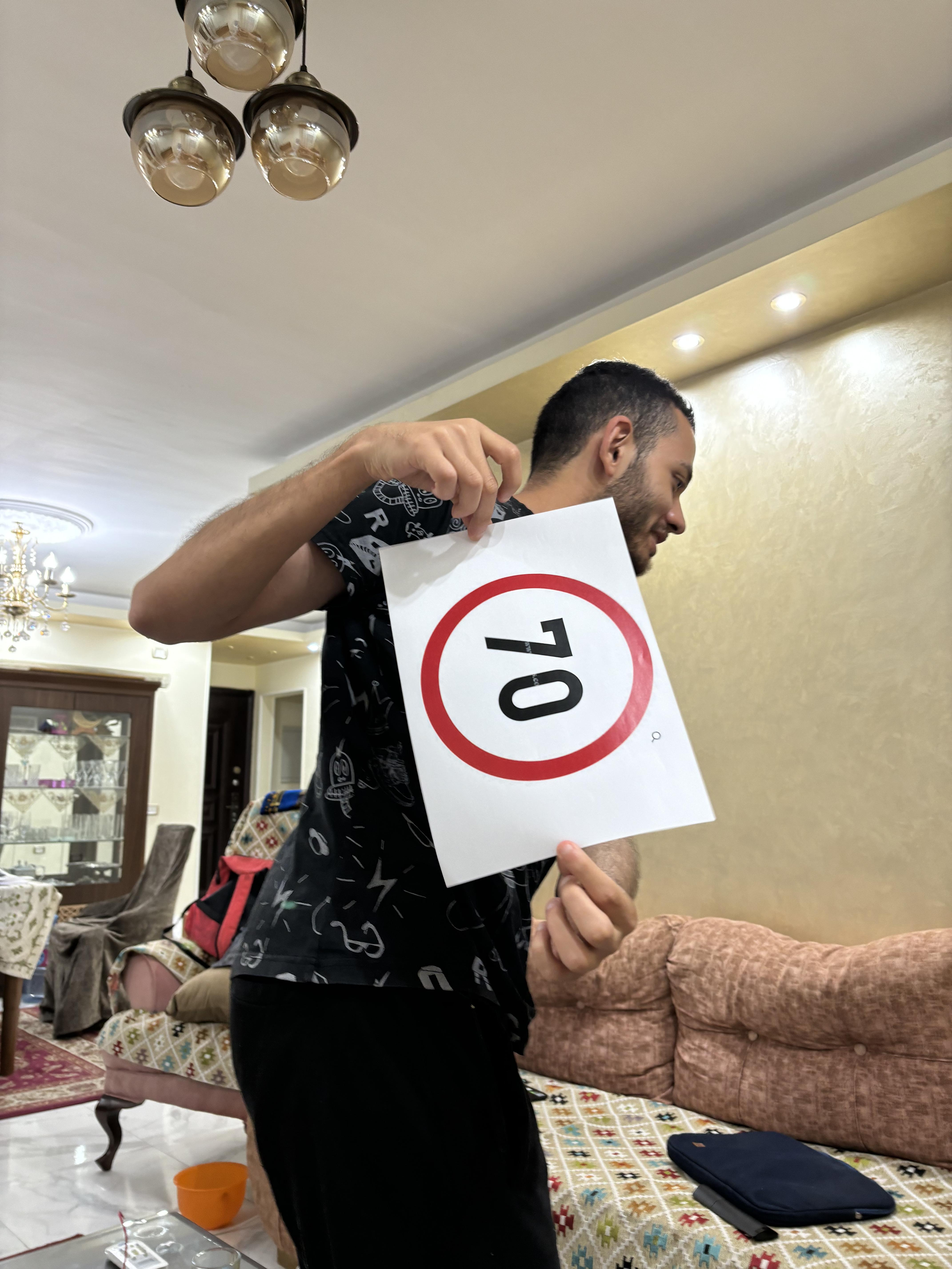70-Speed: (414, 565, 666, 785)
